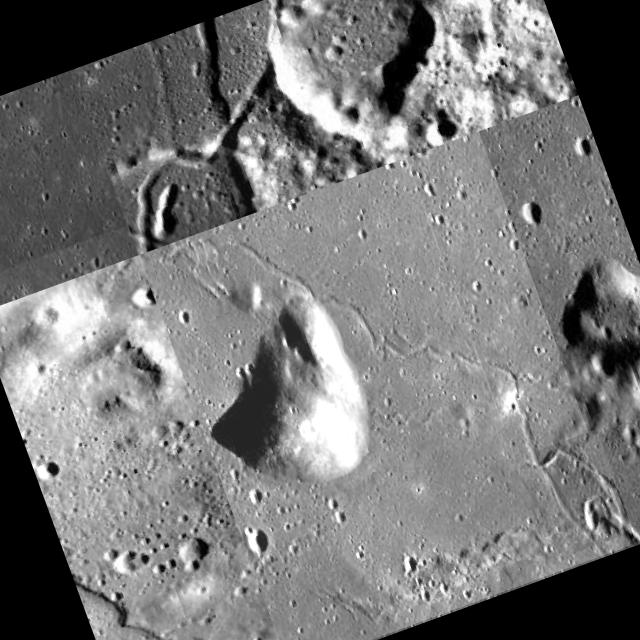rille: (139, 131, 630, 640), (71, 0, 360, 253), (0, 344, 187, 640), (168, 4, 318, 218), (0, 70, 127, 283), (126, 8, 278, 152), (536, 429, 634, 553)
